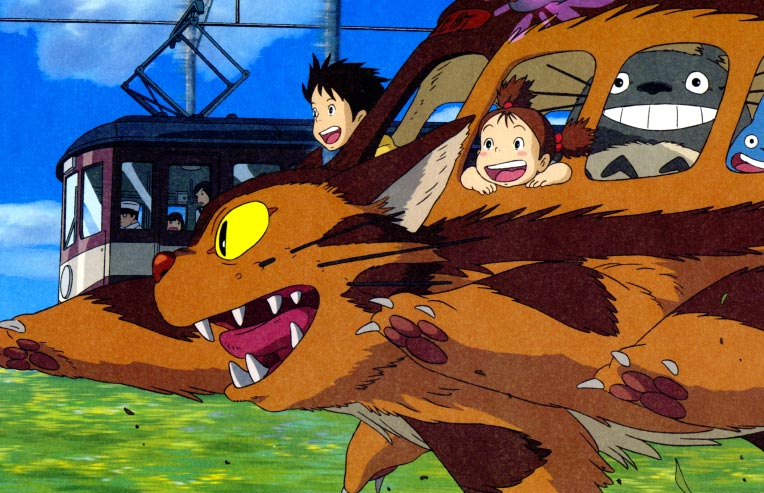Totoro: (566, 43, 757, 180)
